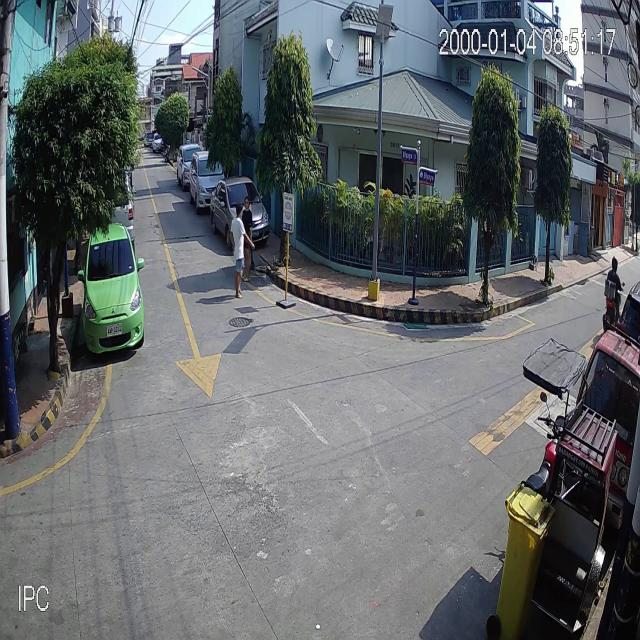standing: (238, 195, 254, 282)
walking: (228, 202, 256, 301)
